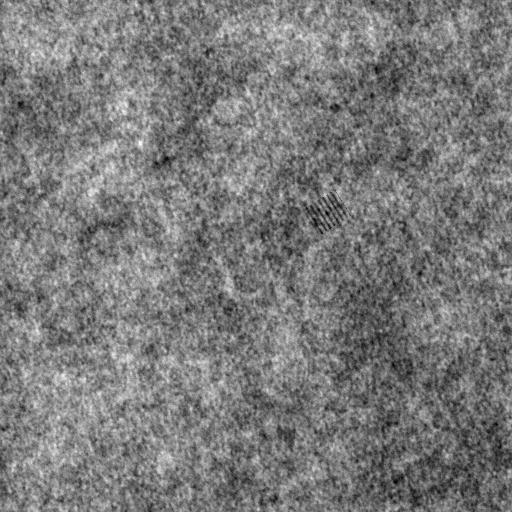impact: (304, 189, 350, 236)
